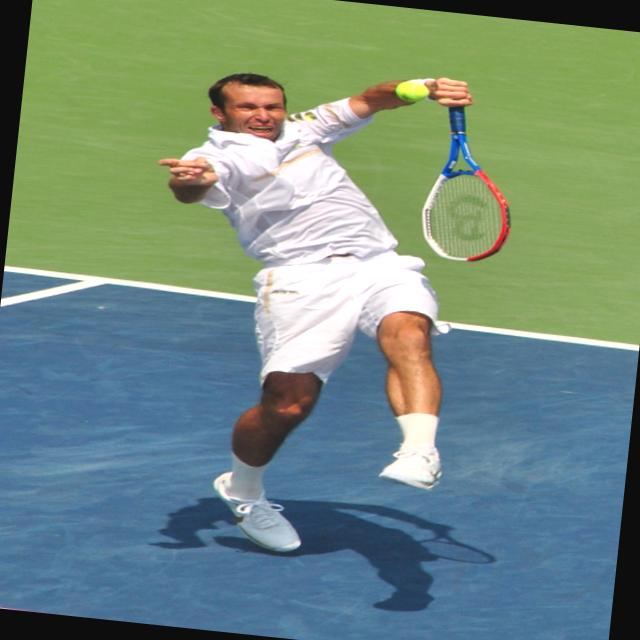Tennis Ball: (395, 79, 430, 104)
